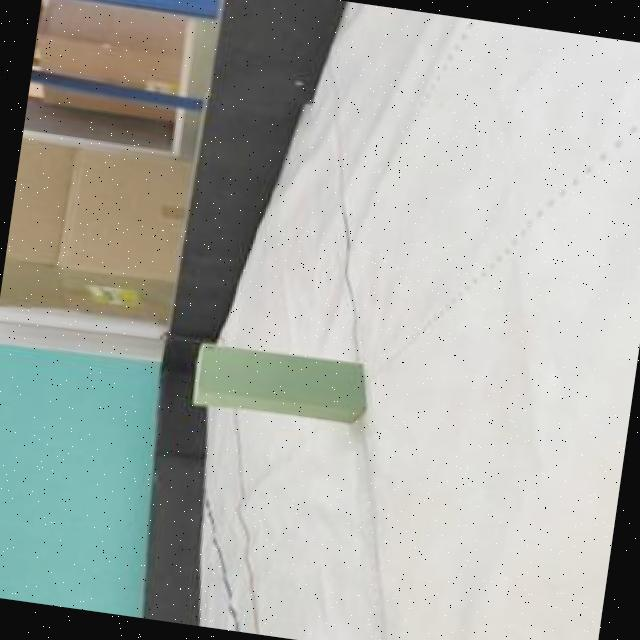greenbox: (190, 341, 374, 430)
